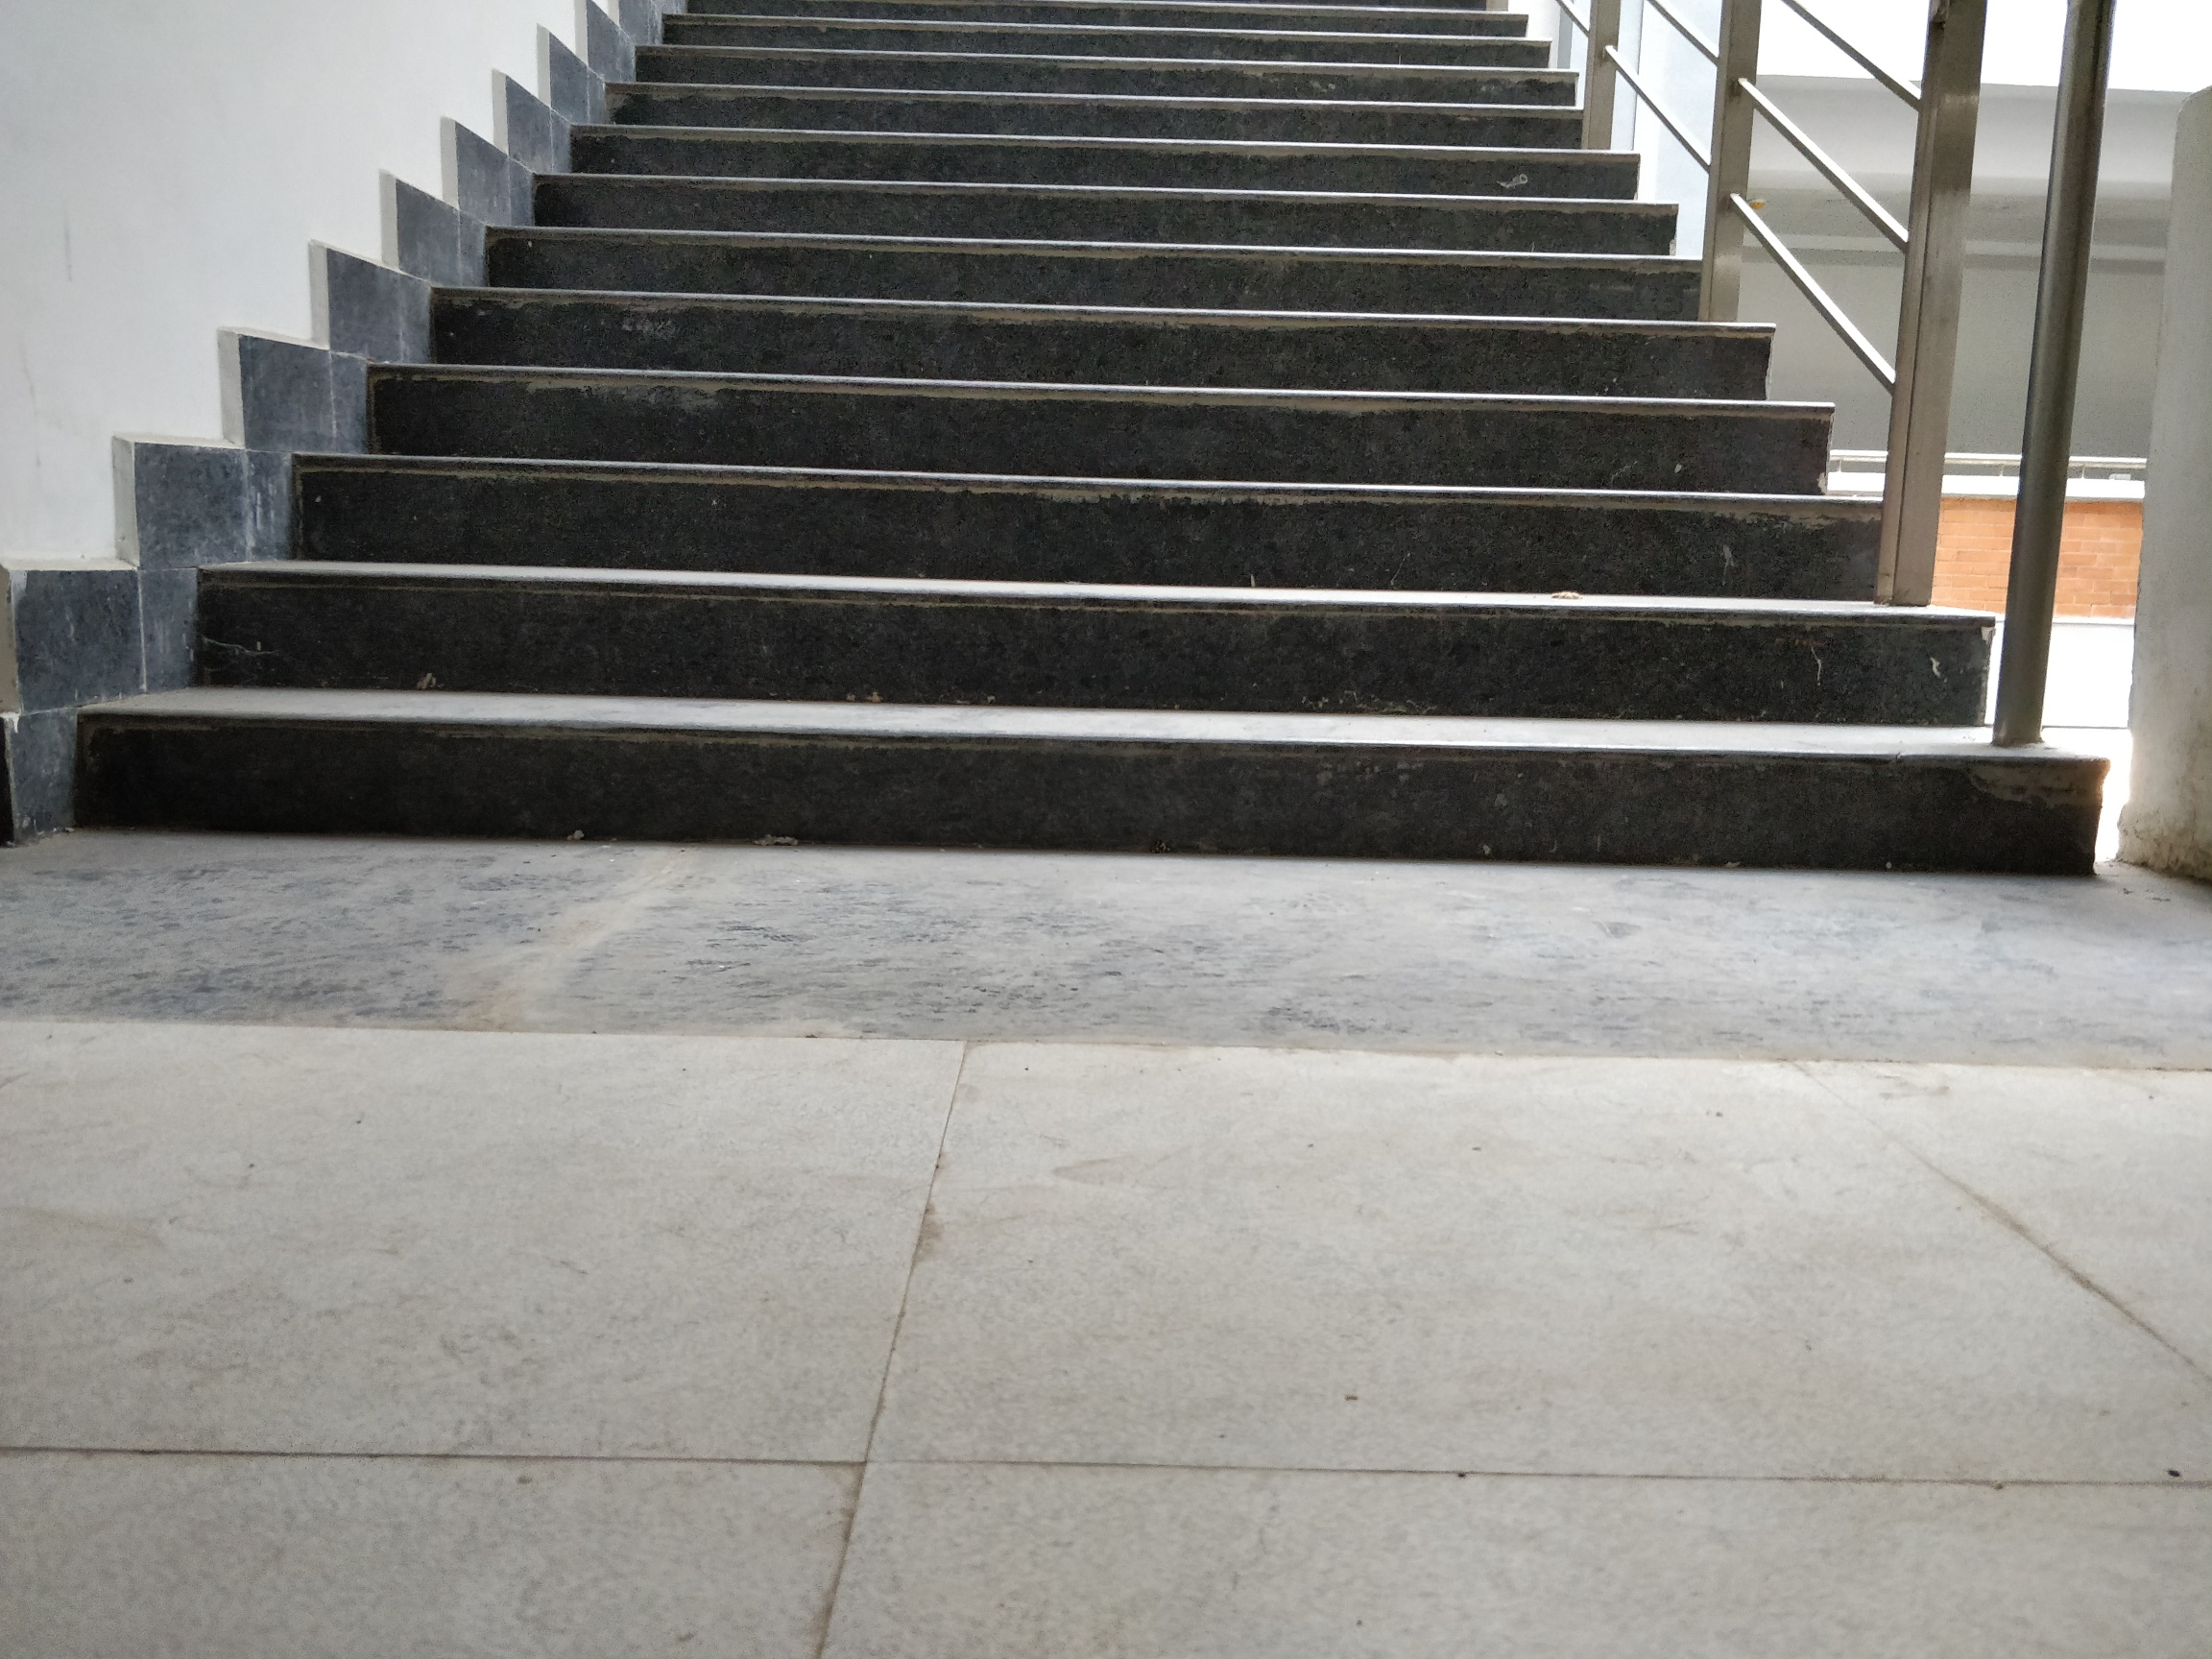stairs_up: (87, 17, 2094, 859)
